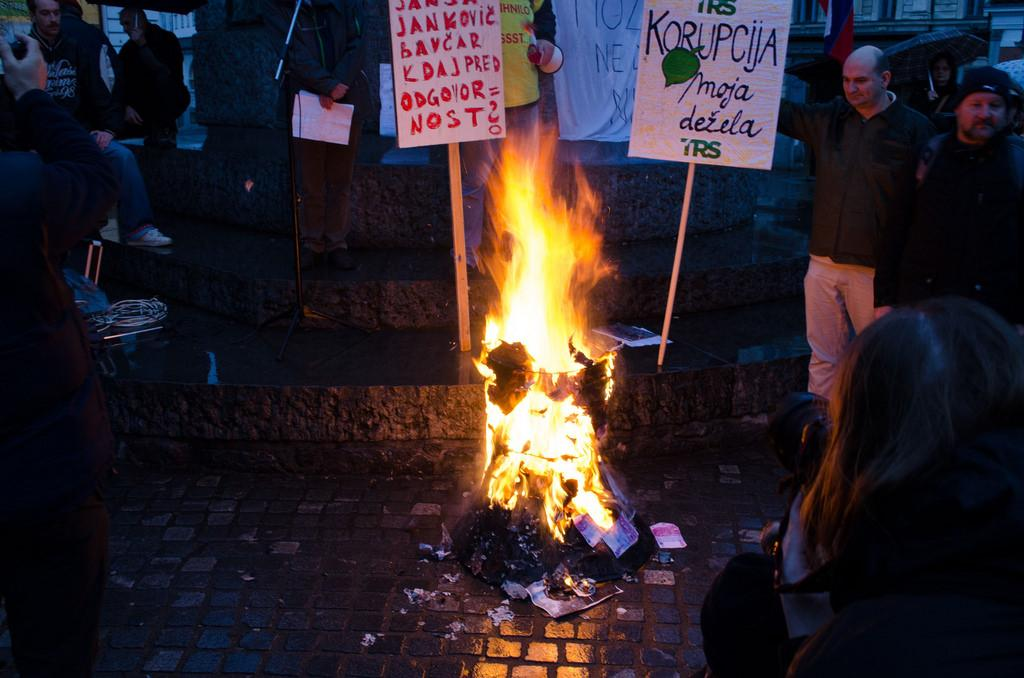fire: (507, 167, 567, 340), (522, 403, 578, 493)
